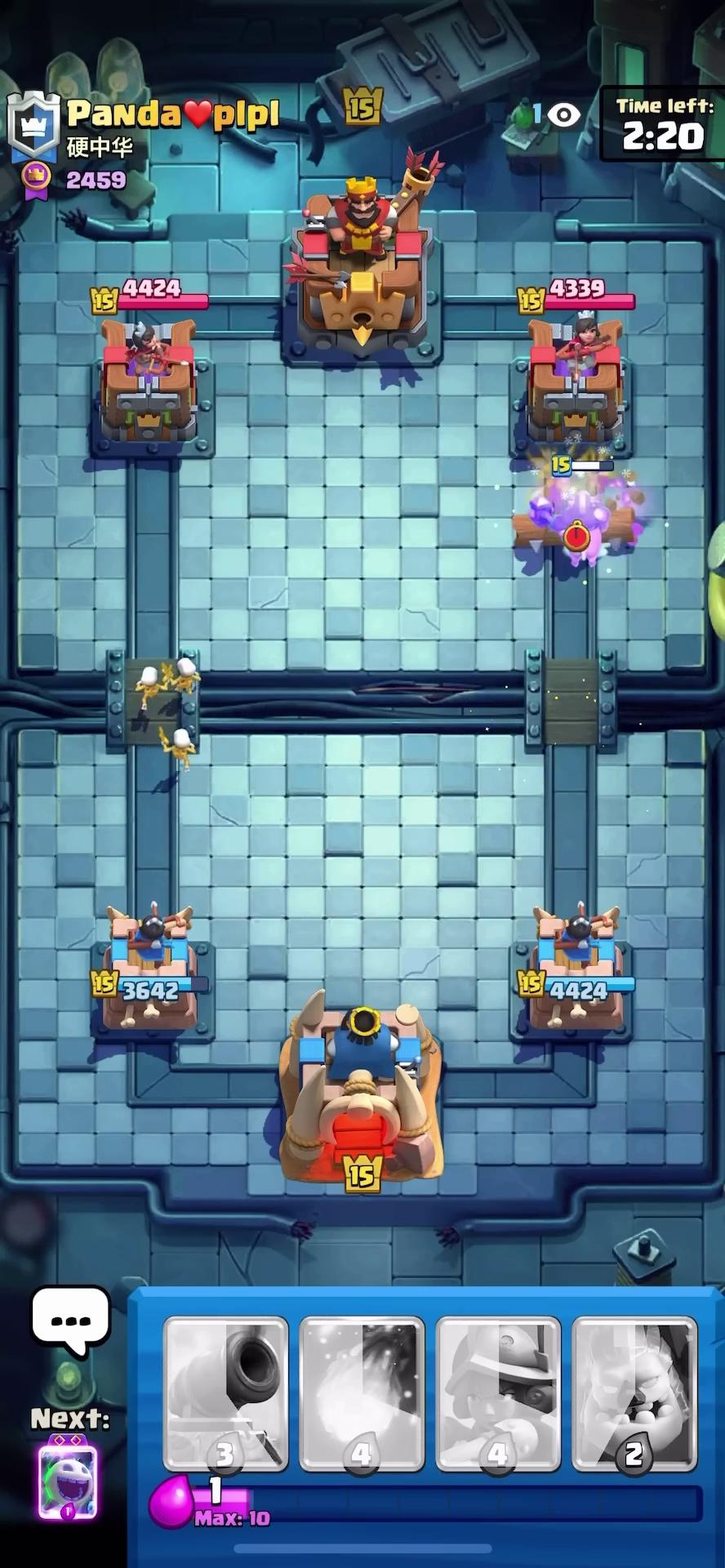hog_rider: (543, 476, 625, 572)
log: (508, 514, 643, 553)
skeletons: (145, 645, 218, 755)
